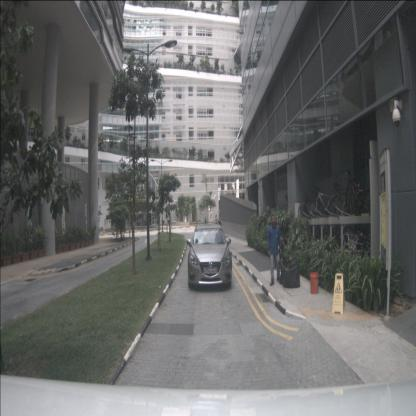human-pedestrian-adult: (267, 214, 282, 286), (215, 214, 218, 230), (199, 215, 202, 224)
vehicle-car: (188, 224, 232, 288), (135, 219, 146, 226)
